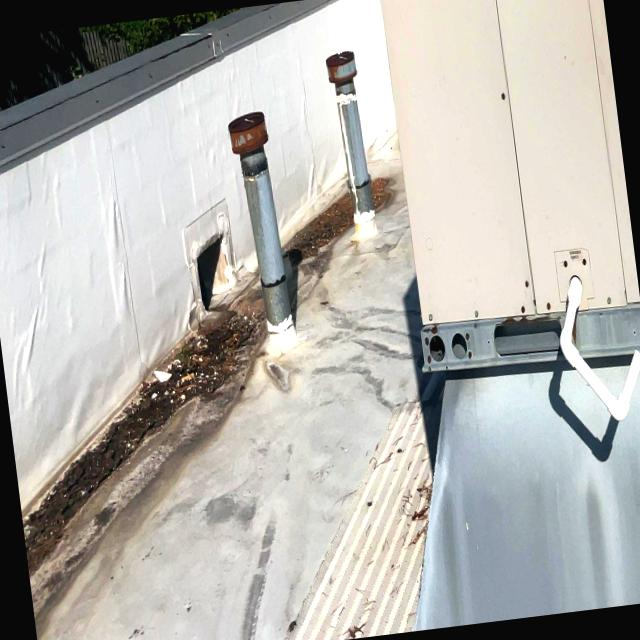GRAVITY-VENT: (222, 99, 308, 363), (318, 43, 387, 243)
RTU: (373, 0, 640, 593)
